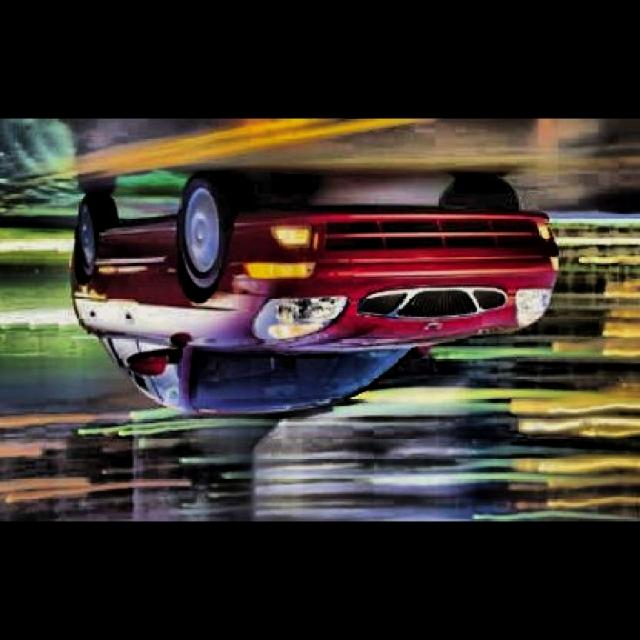maroon: (62, 162, 553, 423)
